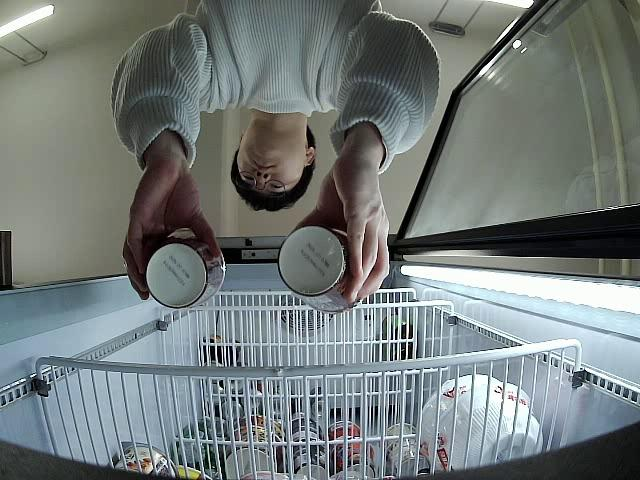00_hand: (286, 154, 391, 301), (124, 164, 221, 303)
06_nuguri_S: (277, 226, 368, 313), (144, 229, 226, 308)
